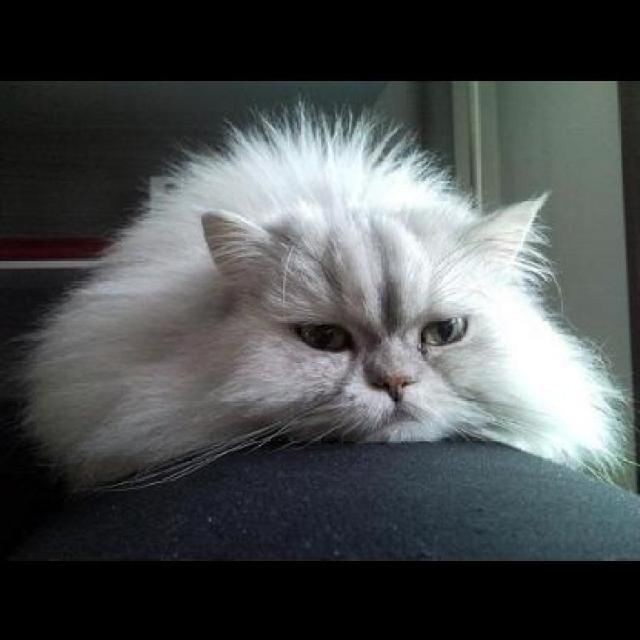unauthorized: (12, 97, 638, 498)
